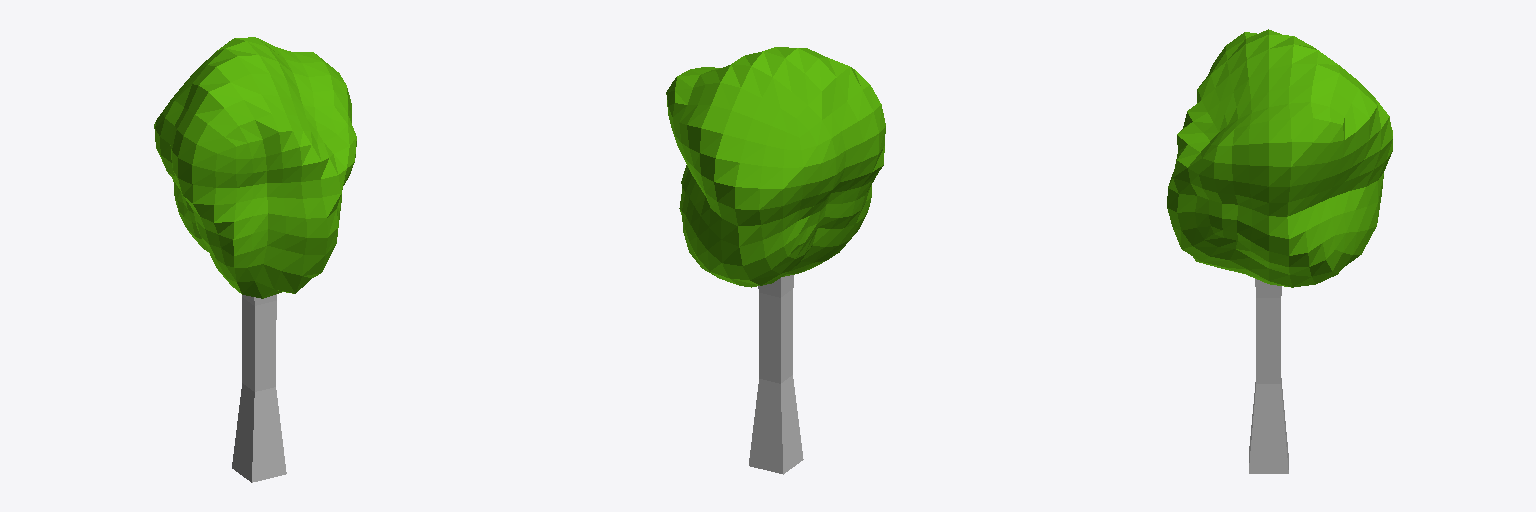
3 views of the same model, side by side, from view 1: azimuth 30°, elevation 25°; view 2: azimuth 150°, elevation 25°; view 3: azimuth 270°, elevation 25° (orthographic).
Parts seen in each view (by area): view 1: Cube.001; view 2: Cube.001; view 3: Cube.001.
Boxes of the visible parts, x1=… form: Cube.001: x1=154, y1=37, x2=356, y2=482; Cube.001: x1=666, y1=47, x2=885, y2=474; Cube.001: x1=1167, y1=29, x2=1392, y2=473.
Size of the model in its own units: 5.88 by 12.47 by 6.06.
2 materials, 1 textured.